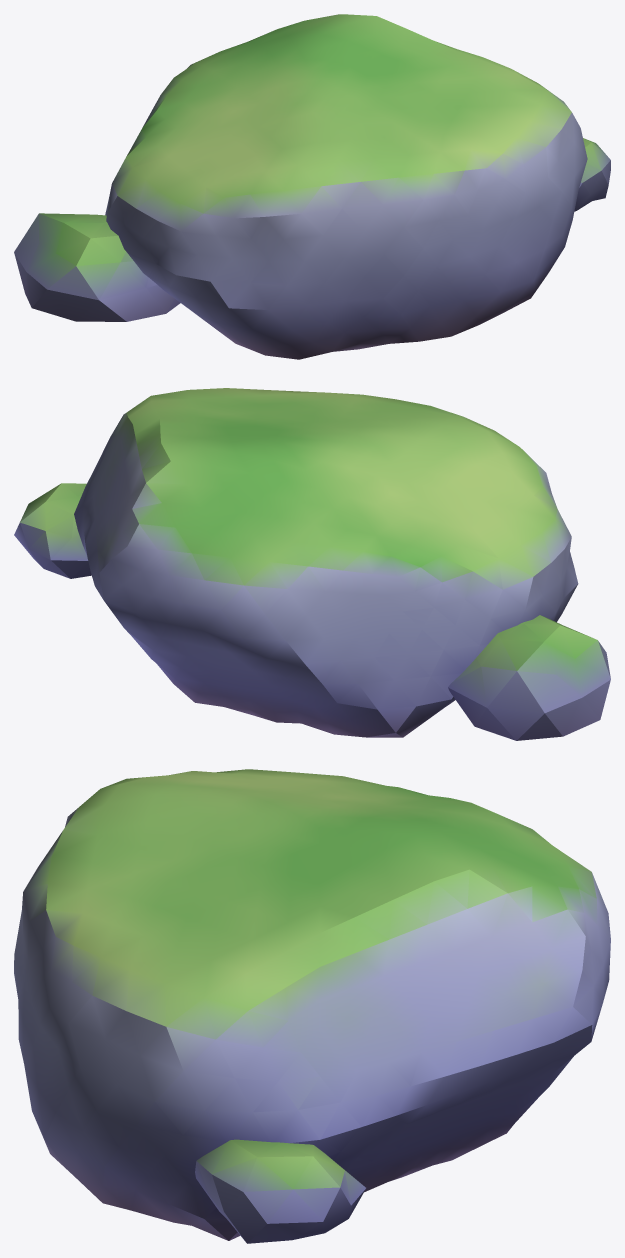
File: verdant_rock_chunk_a.glb
3 views of the same model, one above another, from view 1: azimuth 30°, elevation 25°; view 2: azimuth 150°, elevation 25°; view 3: azimuth 270°, elevation 25° (orthographic). The views are drawn at different scales.
Visible parts, largest first — view 1: verdant_rock_chunk_a; view 2: verdant_rock_chunk_a; view 3: verdant_rock_chunk_a.
Boxes of the visible parts, x1=… form: verdant_rock_chunk_a: x1=14, y1=14, x2=610, y2=359; verdant_rock_chunk_a: x1=14, y1=388, x2=610, y2=740; verdant_rock_chunk_a: x1=14, y1=769, x2=610, y2=1243.
Size of the model in its own units: 2.27 by 0.8342 by 1.5.
